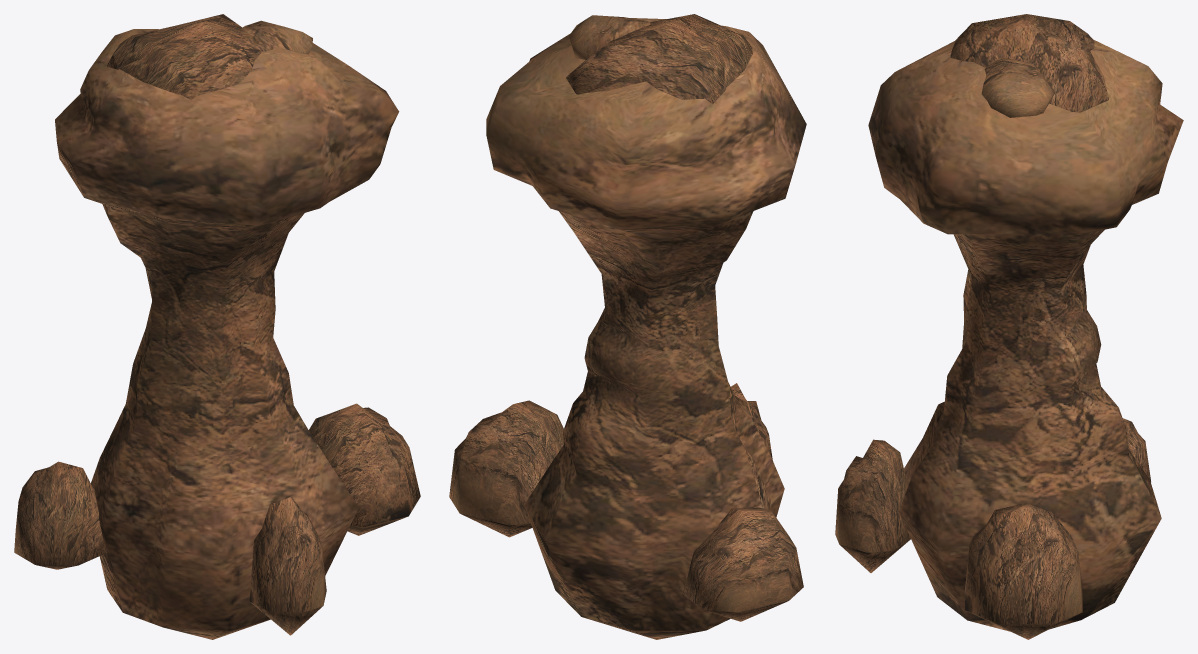
Rendered from rock_tatt_mushroom_l1.fbx.
3 renders of one model, left to right at view 1: azimuth 30°, elevation 25°; view 2: azimuth 150°, elevation 25°; view 3: azimuth 270°, elevation 25°, orthographic. The views are drawn at different scales.
Parts seen in each view (by area): view 1: mesh_node; view 2: mesh_node; view 3: mesh_node.
Boxes of the visible parts, x1,y1,x2,y2 form: mesh_node: [14, 14, 420, 639]; mesh_node: [449, 14, 806, 639]; mesh_node: [835, 14, 1183, 639].
Size of the model in its own units: 30.03 by 49.51 by 25.89.
1 material, 1 textured.
